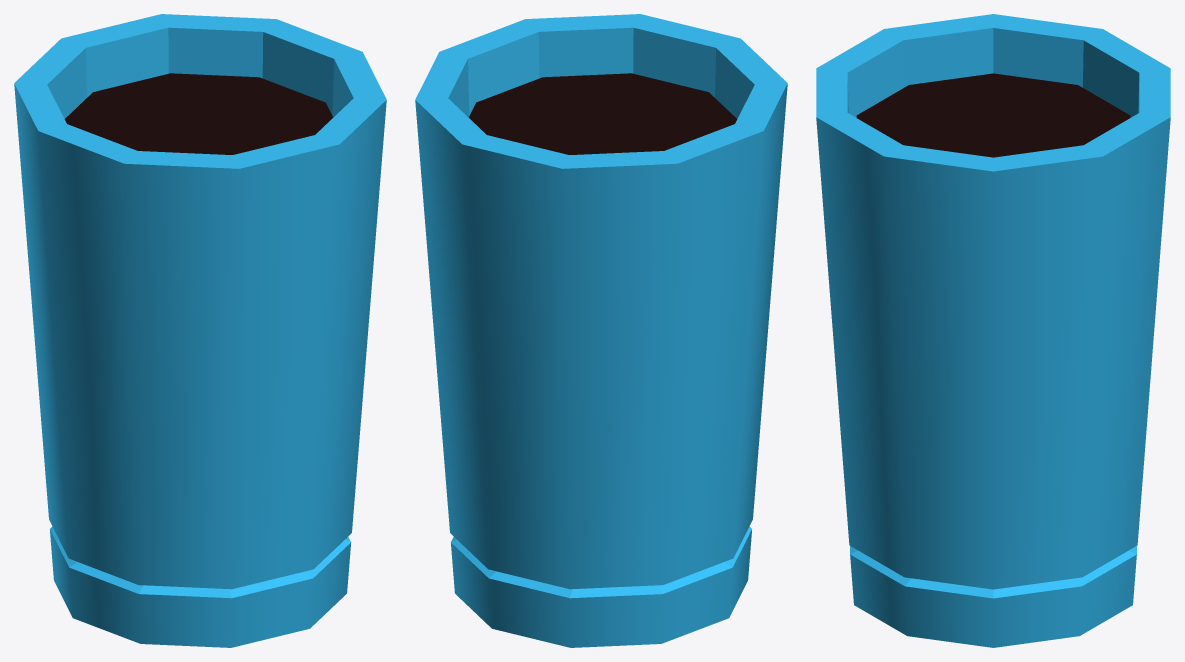
File: SM_glass_04.fbx
3 views of the same model, side by side, from view 1: azimuth 30°, elevation 25°; view 2: azimuth 150°, elevation 25°; view 3: azimuth 270°, elevation 25° (orthographic).
Parts seen in each view (by area): view 1: glass_04; view 2: glass_04; view 3: glass_04.
Boxes of the visible parts, x1=… form: glass_04: x1=14, y1=14, x2=386, y2=647; glass_04: x1=415, y1=14, x2=787, y2=647; glass_04: x1=816, y1=14, x2=1170, y2=647.
Size of the model in its own units: 13.48 by 19.81 by 12.82.
